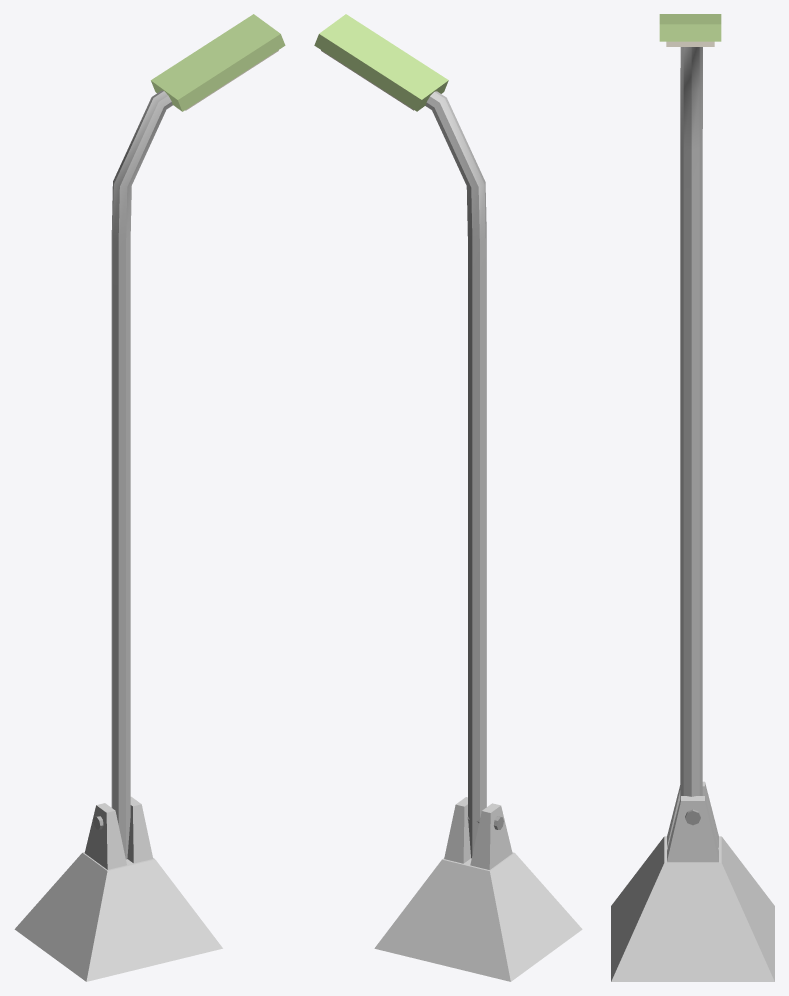
File: lamp1_1.fbx
The picture shows the model from 3 angles, left to right: view 1: azimuth 30°, elevation 25°; view 2: azimuth 150°, elevation 25°; view 3: azimuth 270°, elevation 25°; orthographic projection. The views are drawn at different scales.
Visible parts, largest first — view 1: Cylinder; view 2: Cylinder; view 3: Cylinder.
Part boxes in pixels (box(x1,y1,x2,y2)): Cylinder: box(14, 14, 285, 981); Cylinder: box(314, 14, 582, 981); Cylinder: box(611, 14, 774, 981).
Size of the model in its own units: 104 by 397 by 58.8.
